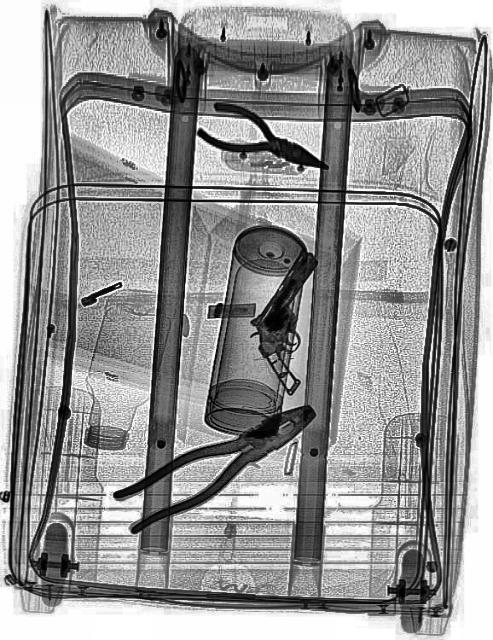Gun: (236, 240, 354, 398)
Pliers: (110, 386, 324, 540), (194, 91, 336, 187)
